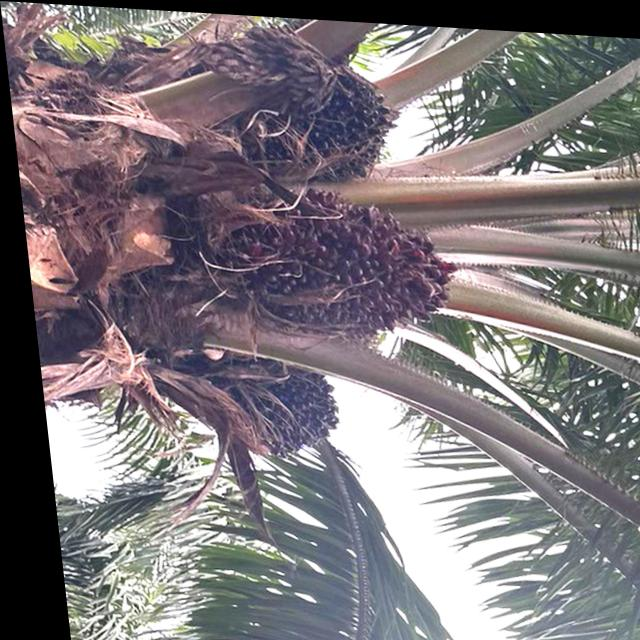ripe: (207, 179, 475, 351)
